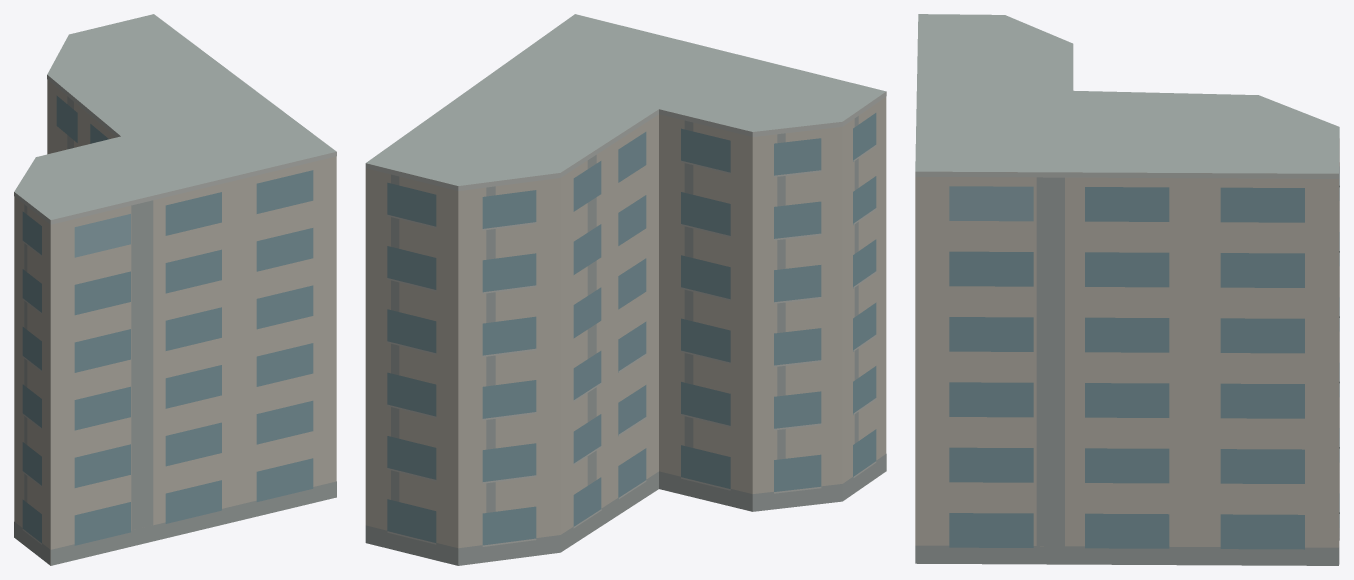
The model's file is survey-upis-33020941.glb.
3 renders of one model, left to right at view 1: azimuth 30°, elevation 25°; view 2: azimuth 150°, elevation 25°; view 3: azimuth 270°, elevation 25°, orthographic. The views are drawn at different scales.
Parts seen in each view (by area): view 1: survey-upis-33020941.tmp; view 2: survey-upis-33020941.tmp; view 3: survey-upis-33020941.tmp.
Boxes of the visible parts, x1,y1,x2,y2 form: survey-upis-33020941.tmp: (14, 14, 336, 565); survey-upis-33020941.tmp: (365, 14, 886, 565); survey-upis-33020941.tmp: (915, 14, 1339, 565).
Bounding box in the file's own units: 16 × 18.3 × 17.96.
